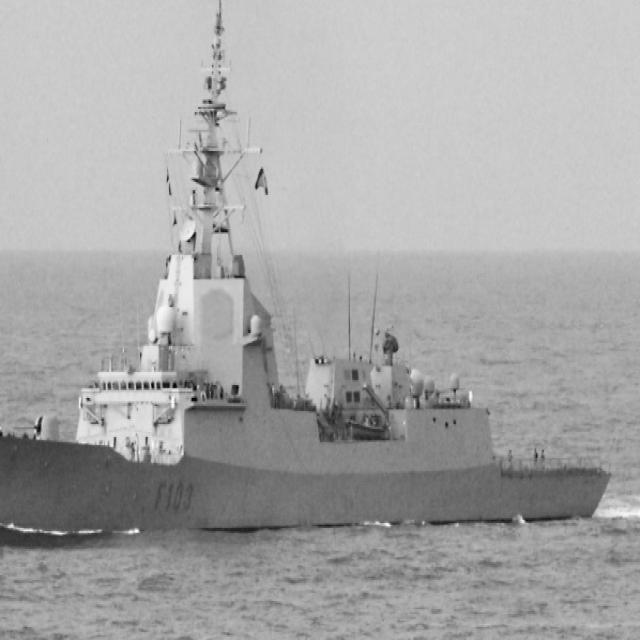Fragata: (1, 1, 616, 543)
